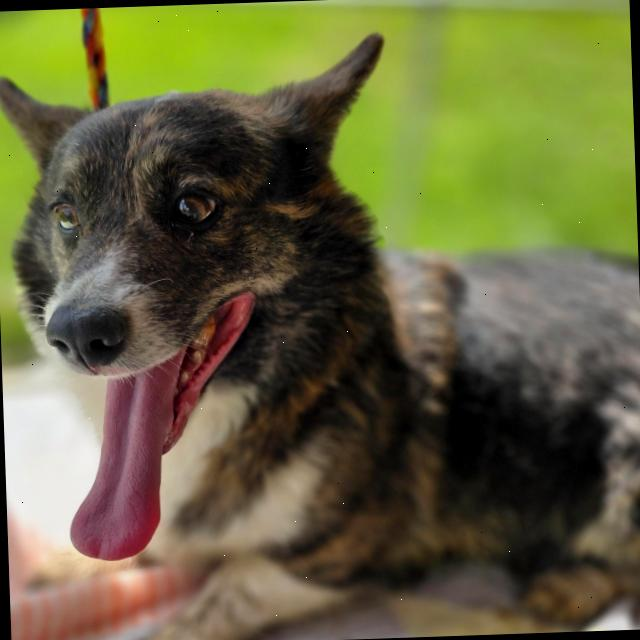corgi_dog: (0, 25, 434, 565)
